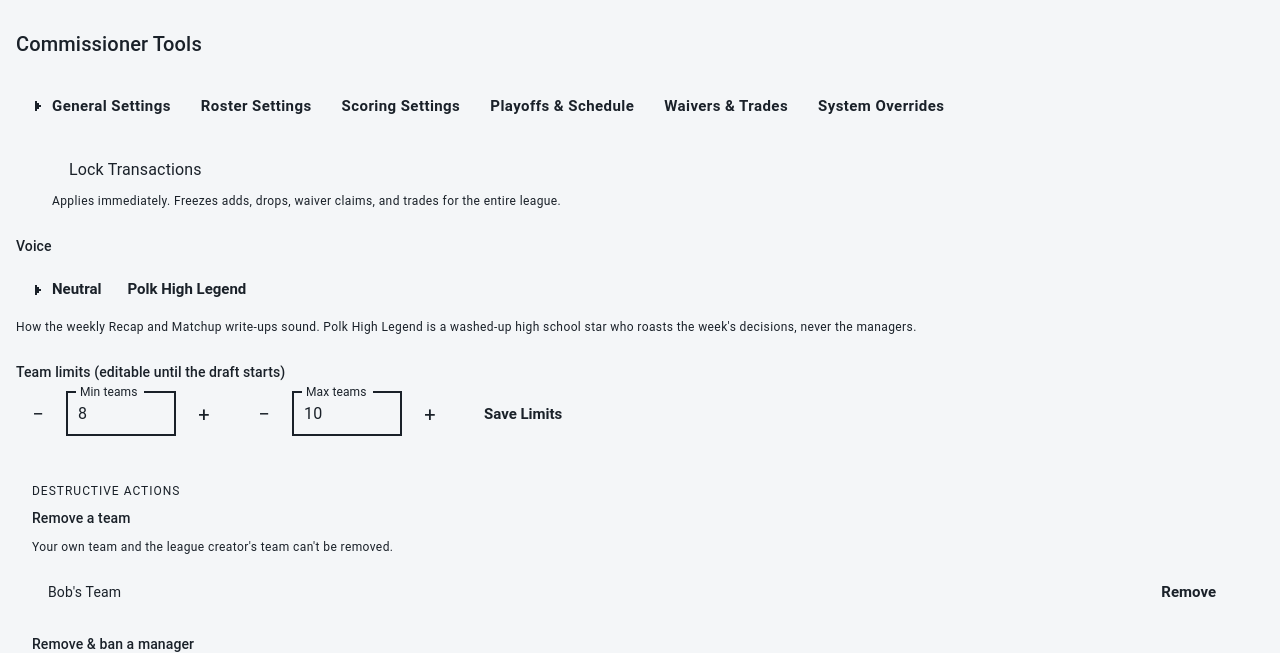
Test: the PPR presets set only the reception rate, as one radio group
Click the tab "Scoring Settings": click(401, 106) [326,84,476,128]
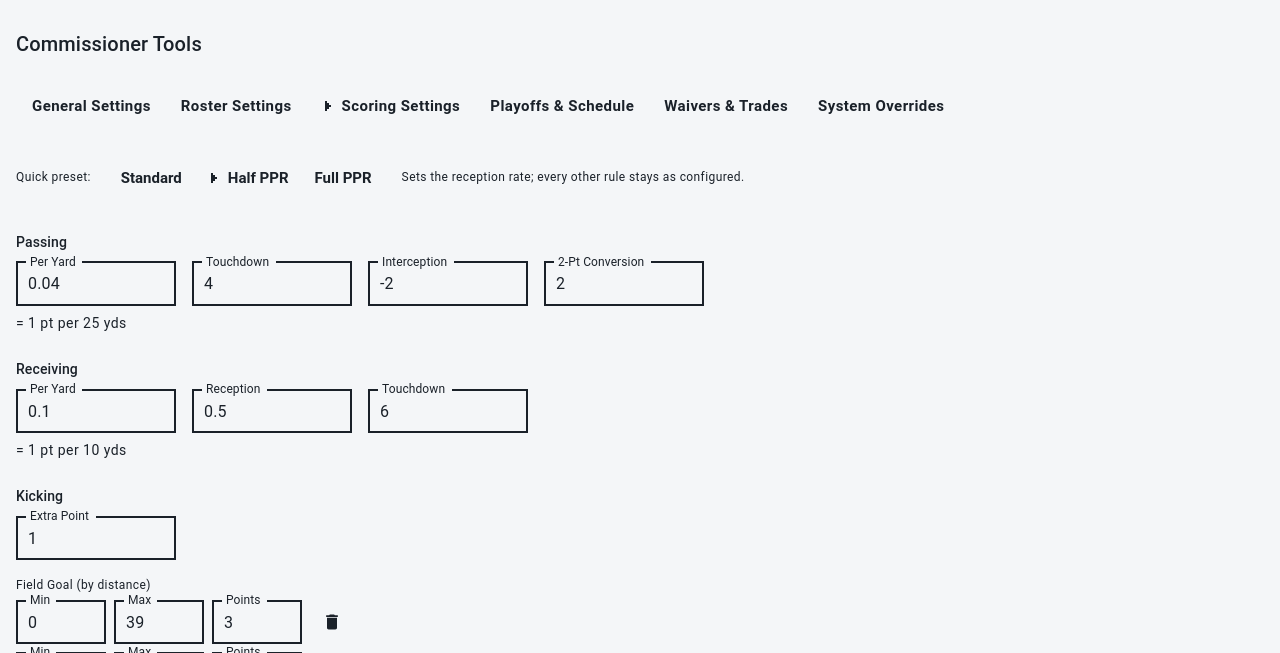
Now the number field labelled "Reception" holds "0.5", box [192,389,352,433]
Click the radio button labelled "Full PPR": click(343, 178) [300,156,386,200]
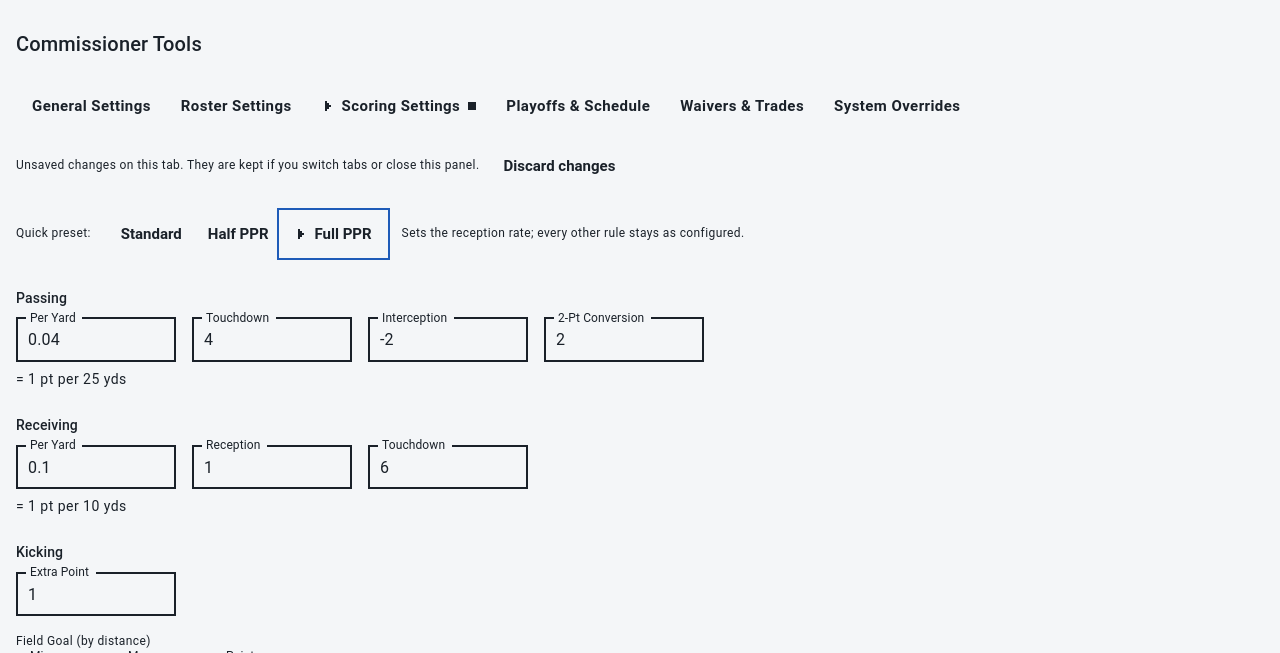
Now the number field labelled "Per Yard" below "Receiving" holds "0.1", box [16,445,176,489]
Now the number field labelled "Reception" holds "1", box [192,445,352,489]
Click the radio button labelled "Standard": click(151, 234) [107,212,196,256]
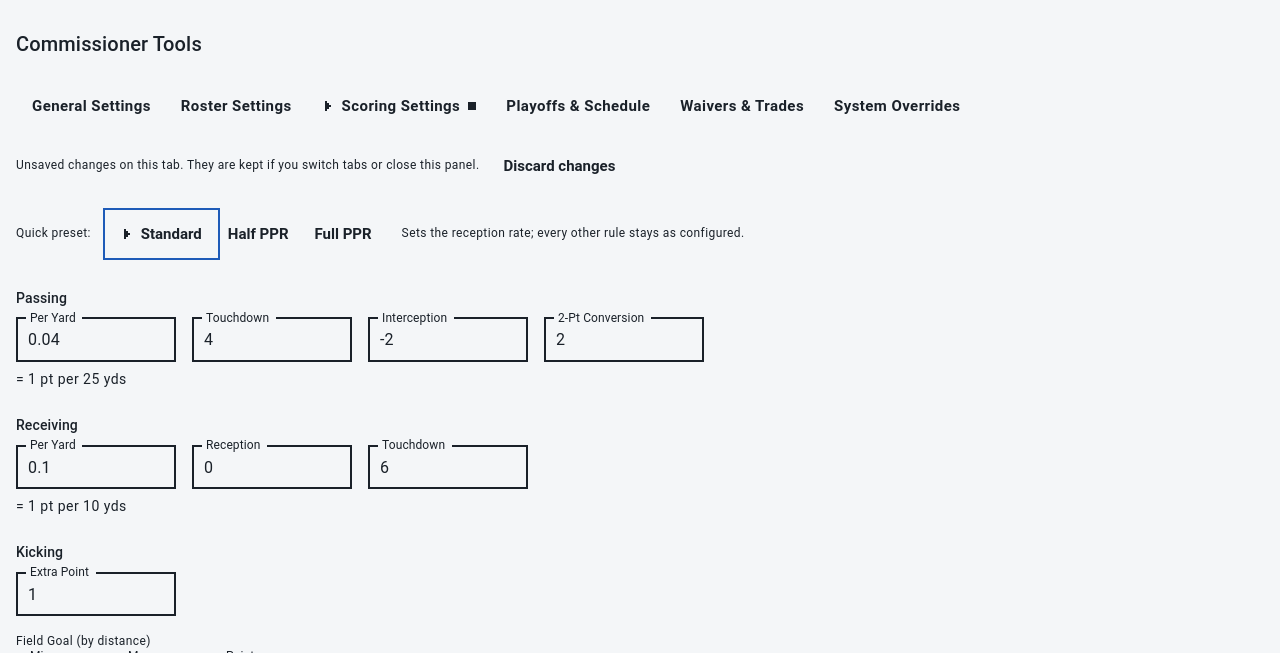
Now the number field labelled "Reception" holds "0", box [192,445,352,489]
